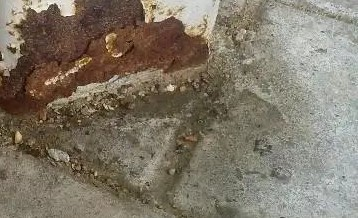Corrosion: (1, 1, 210, 117)
